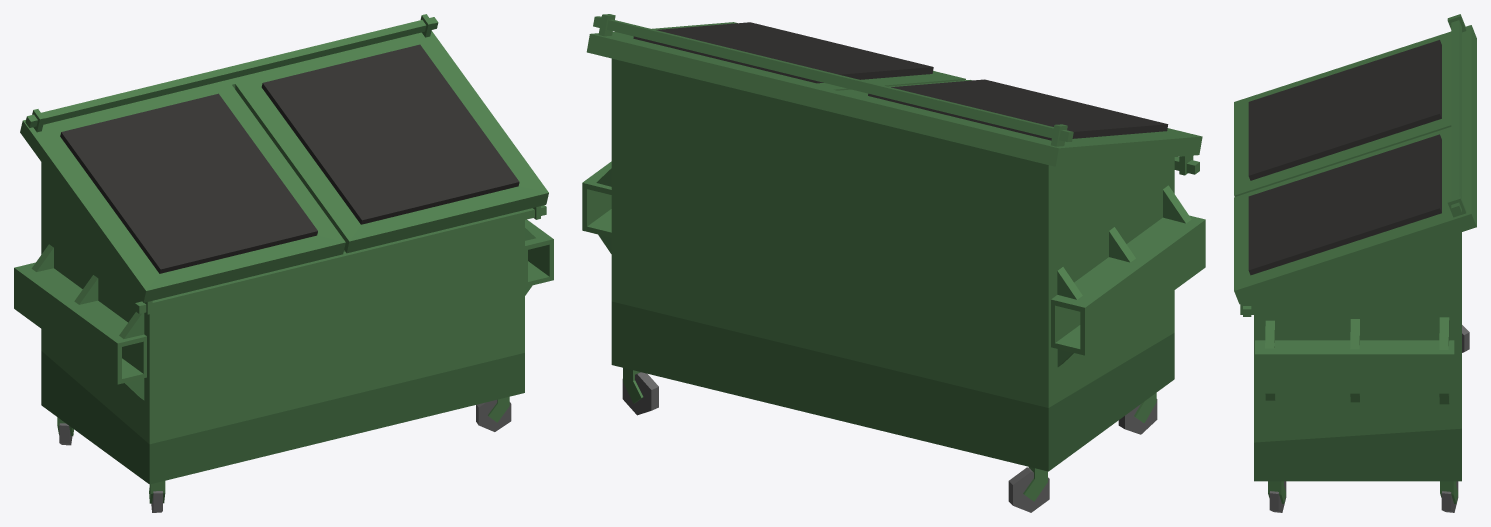
The model's file is Trash_Big.fbx.
3 renders of one model, left to right at view 1: azimuth 30°, elevation 25°; view 2: azimuth 150°, elevation 25°; view 3: azimuth 270°, elevation 25°, orthographic. The views are drawn at different scales.
Parts seen in each view (by area): view 1: Trash_Big; view 2: Trash_Big; view 3: Trash_Big.
Part boxes in pixels (<box>): Trash_Big: <box>14,14,553,512</box>; Trash_Big: <box>582,14,1205,512</box>; Trash_Big: <box>1234,14,1476,512</box>.
Bounding box in the file's own units: 3.2 × 2.4 × 1.61.
Materials: 1 (1 with a texture image).
